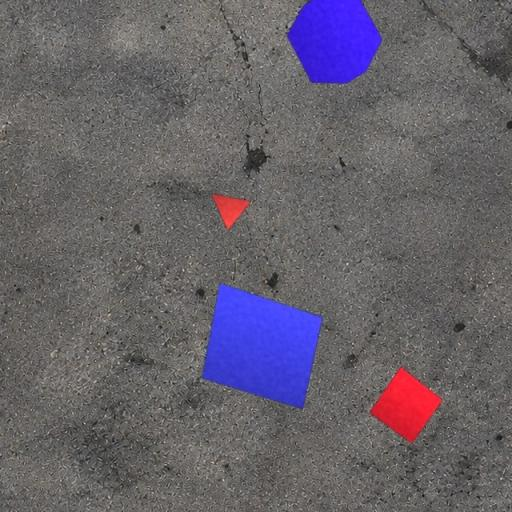BLUE_SQUARE: (201, 282, 323, 410)
RED_SQUARE: (369, 366, 443, 444)
